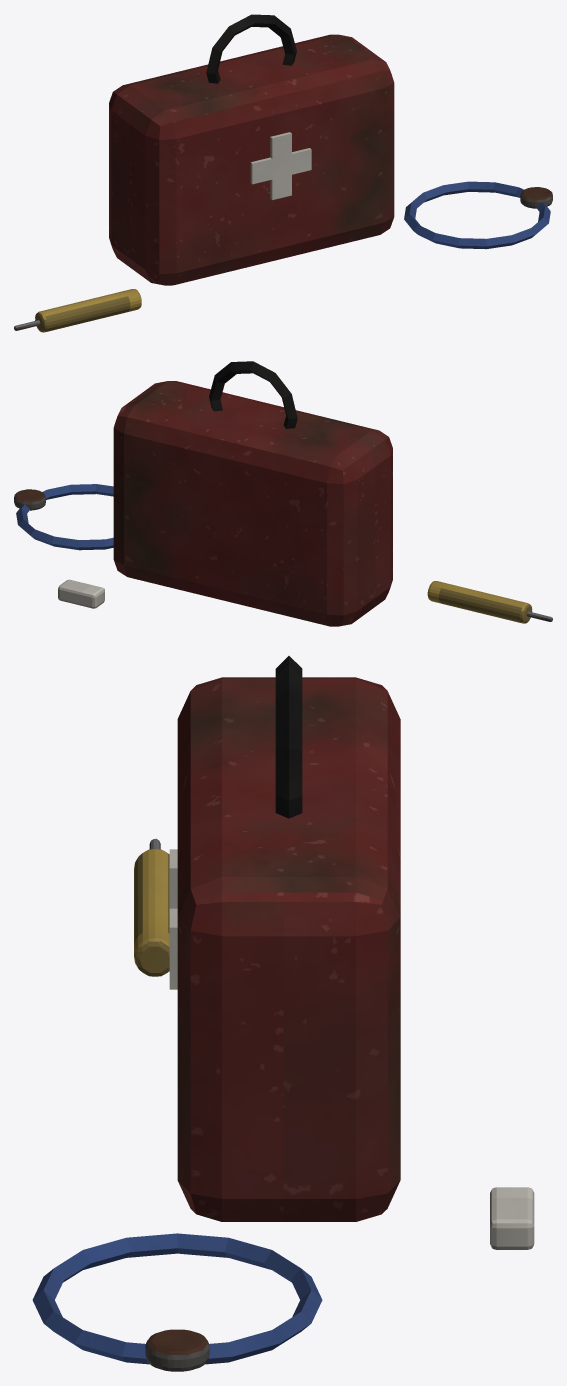
Rendered from TY13_toy_doctor_kit.glb.
3 renders of one model, top to bottom at view 1: azimuth 30°, elevation 25°; view 2: azimuth 150°, elevation 25°; view 3: azimuth 270°, elevation 25°, orthographic. The views are drawn at different scales.
Parts seen in each view (by area): view 1: TY13_toy_doctor_kit; view 2: TY13_toy_doctor_kit; view 3: TY13_toy_doctor_kit.
Part boxes in pixels (x1=…): TY13_toy_doctor_kit: x1=14, y1=14, x2=552, y2=332; TY13_toy_doctor_kit: x1=14, y1=361, x2=552, y2=626; TY13_toy_doctor_kit: x1=32, y1=656, x2=534, y2=1371.
Bounding box in the file's own units: 0.3 × 0.1234 × 0.1229.
Materials: 6 (6 with a texture image).
